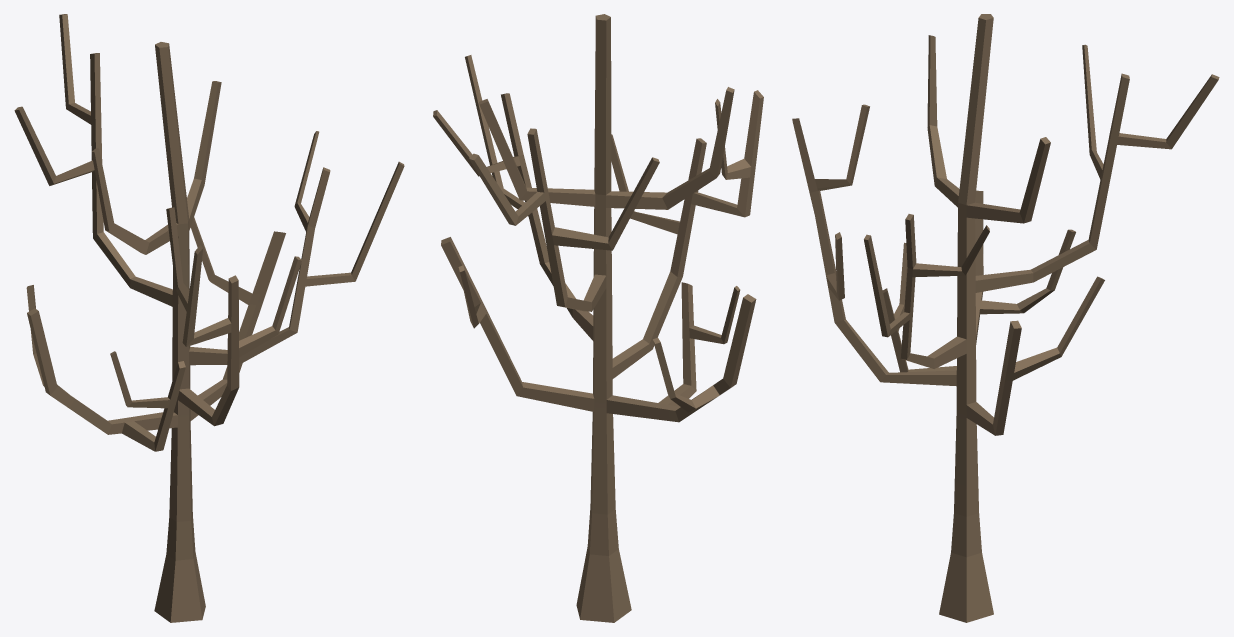
Rendered from tree_bare_b_3.FBX.
The picture shows the model from 3 angles, left to right: view 1: azimuth 30°, elevation 25°; view 2: azimuth 150°, elevation 25°; view 3: azimuth 270°, elevation 25°; orthographic projection. The views are drawn at different scales.
Parts seen in each view (by area): view 1: tree_bare_b_3; view 2: tree_bare_b_3; view 3: tree_bare_b_3.
Boxes of the visible parts, x1,y1,x2,y2 form: tree_bare_b_3: [14, 14, 404, 622]; tree_bare_b_3: [433, 14, 763, 622]; tree_bare_b_3: [792, 14, 1219, 622].
Size of the model in its own units: 4.44 by 7.41 by 4.87.
